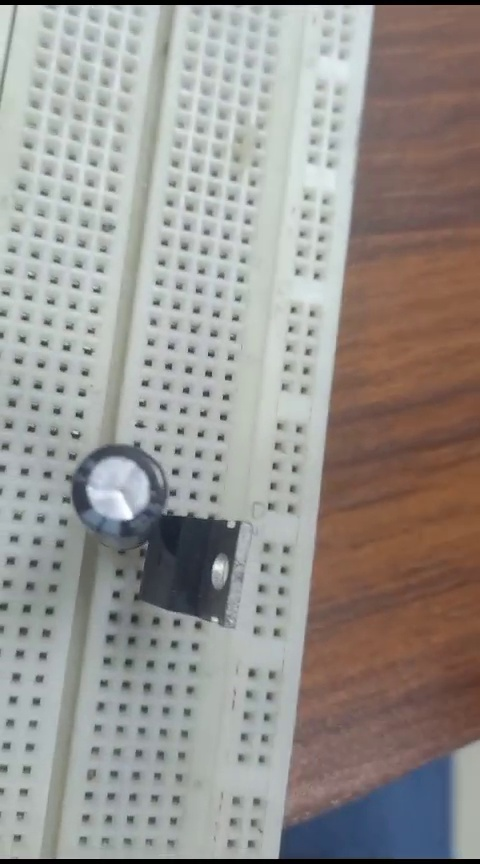capacitor: (78, 437, 168, 537)
voltage regulator: (144, 507, 258, 629)
